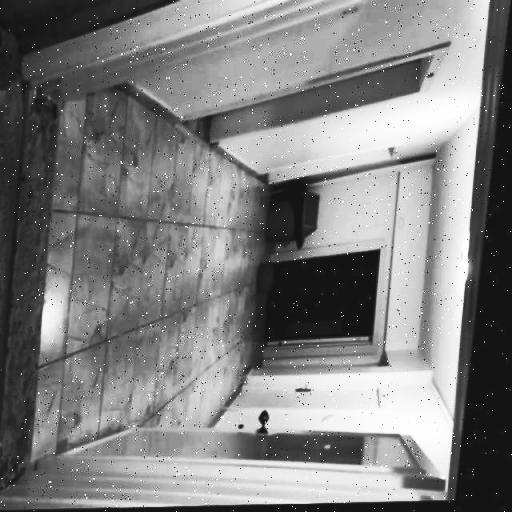balloon: (263, 257, 284, 299)
